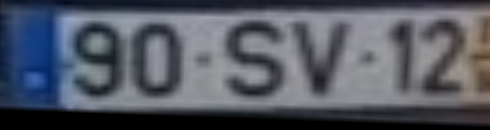0: (127, 21, 187, 103)
1: (385, 18, 423, 99)
2: (420, 18, 477, 99)
9: (67, 21, 125, 103)
S: (223, 21, 291, 102)
V: (287, 19, 359, 103)
